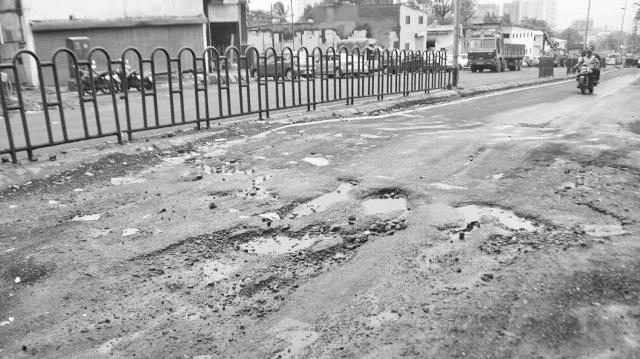Pothole: (154, 172, 428, 308), (452, 188, 640, 276), (0, 254, 82, 318)
